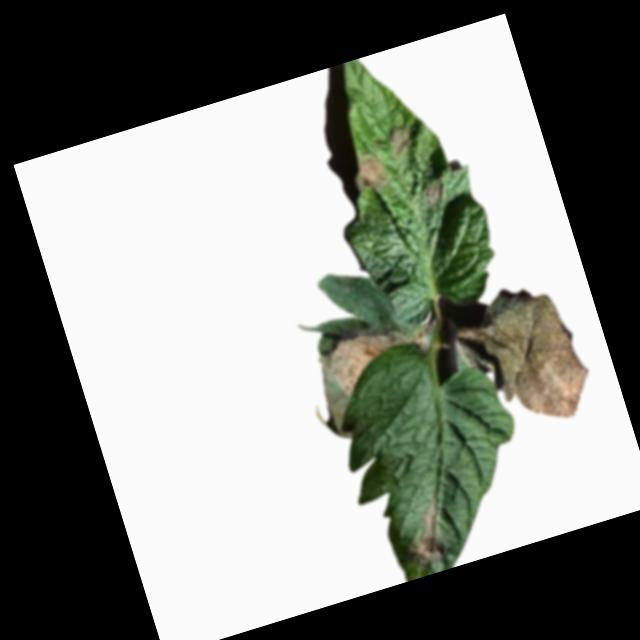Late_blight: (469, 275, 598, 435), (309, 309, 444, 401), (393, 500, 455, 570), (349, 147, 391, 195), (386, 123, 415, 153), (419, 176, 448, 204)
